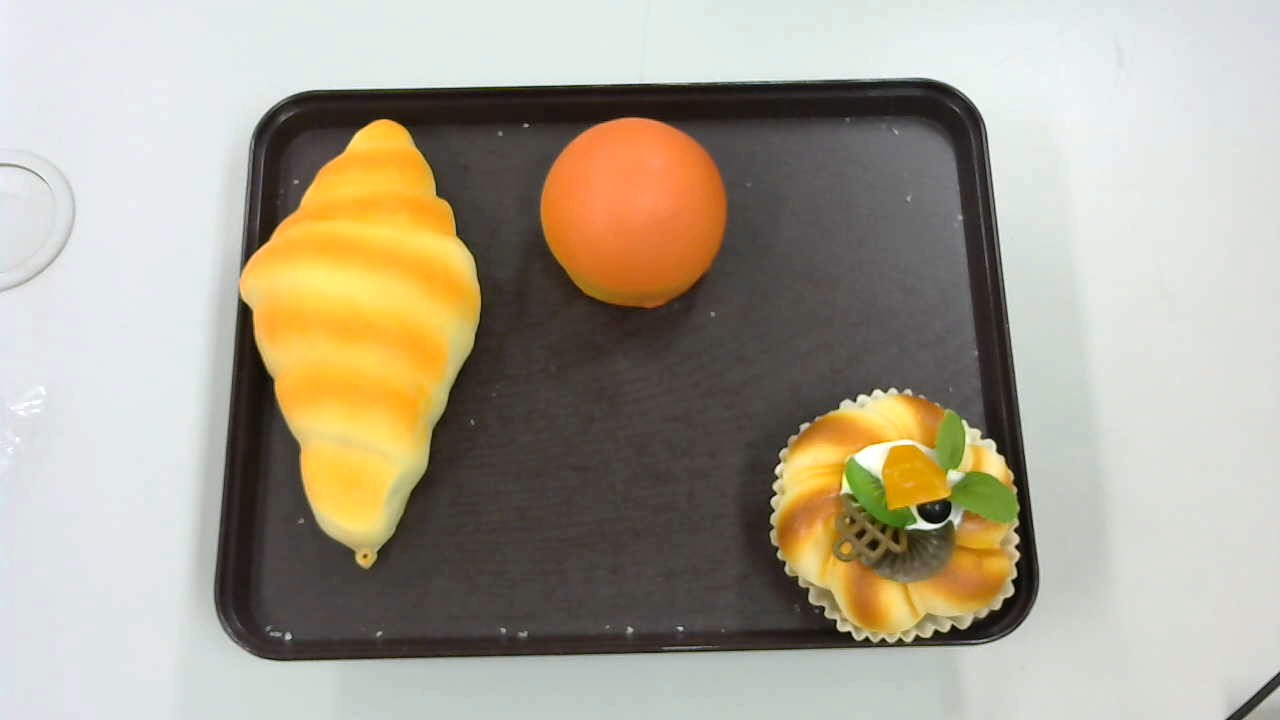bun: (540, 117, 726, 308)
croissant: (238, 118, 482, 570)
fruit tart: (770, 386, 1018, 644)
